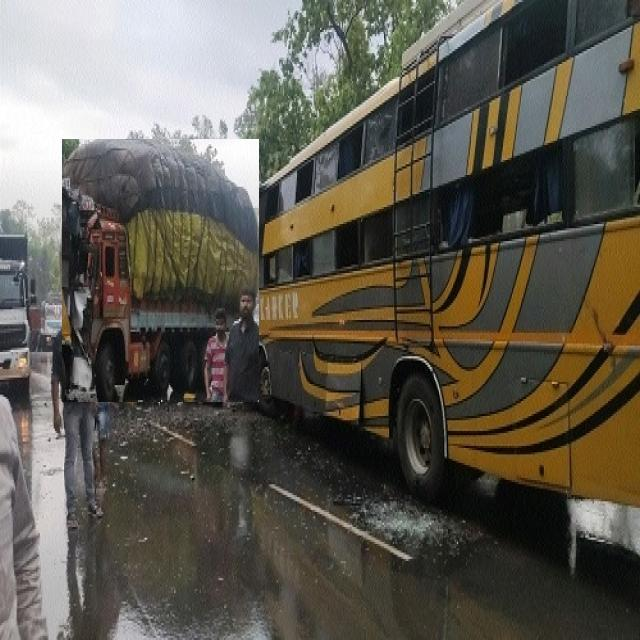bus: (242, 0, 640, 507)
truck: (62, 139, 259, 402)
